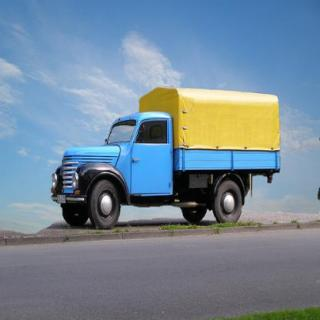Normal_vehicle: (52, 82, 286, 232)
